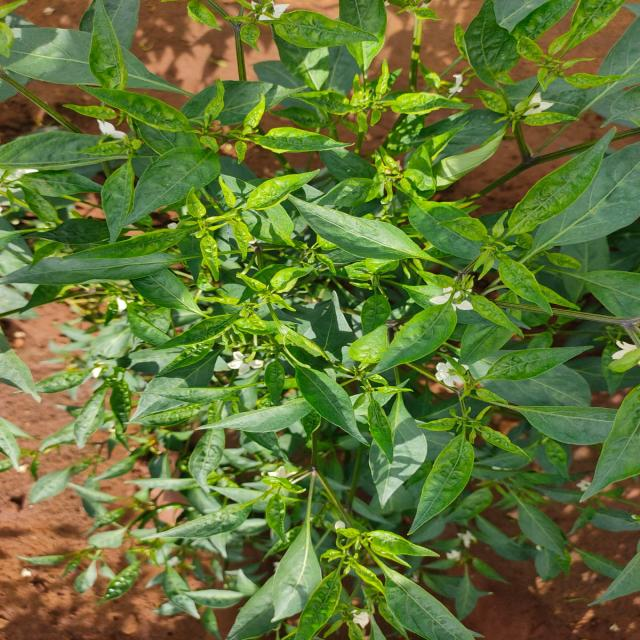Moko: (356, 156, 624, 360), (204, 455, 446, 640), (68, 42, 327, 204), (81, 166, 352, 316), (437, 0, 628, 160), (308, 0, 460, 158), (414, 383, 565, 531)
